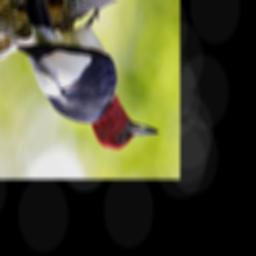Woodpecker: (17, 0, 157, 148)
